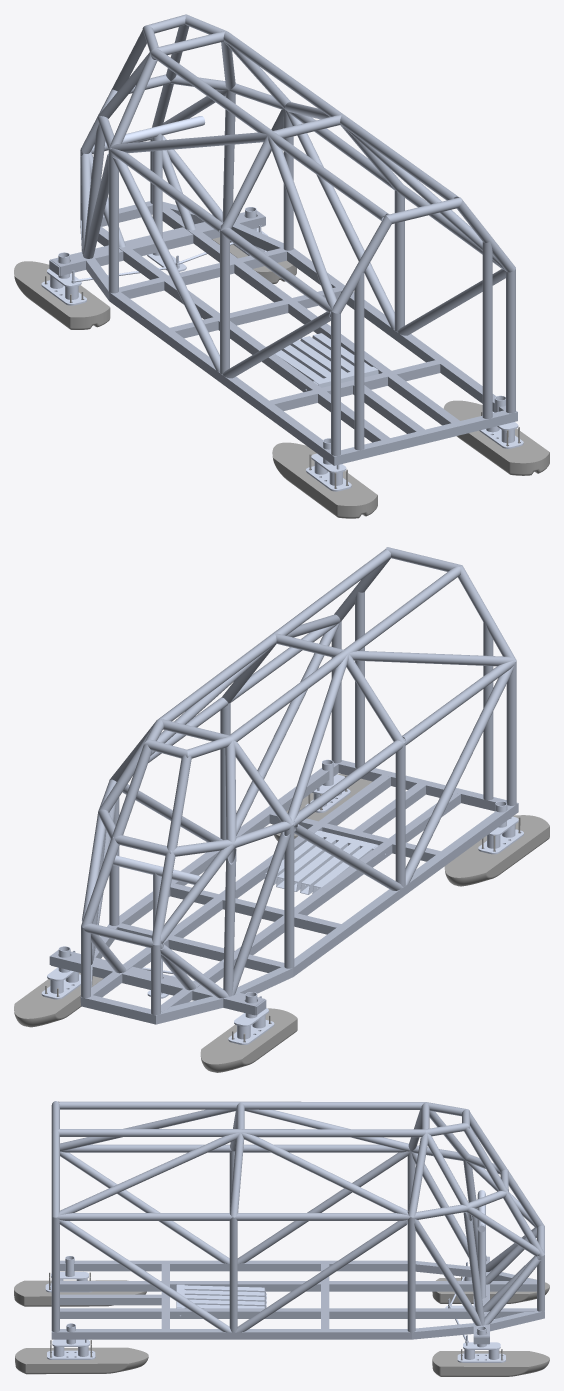
File: toboggan.glb
3 views of the same model, one above another, from view 1: azimuth 30°, elevation 25°; view 2: azimuth 150°, elevation 25°; view 3: azimuth 270°, elevation 25° (orthographic). The views are drawn at different scales.
Visible parts, largest first — view 1: Chassis Design with all stress tests - AM-1, Back Conc Ski-1, Front Conc Ski-2, Back Conc Ski-2, Breaking Components-1, steering plate-1, Conc Ski Mount-2, Conc Ski Mount-4, Conc Ski Mount-5; view 2: Chassis Design with all stress tests - AM-1, Back Conc Ski-1, Breaking Components-1, Front Conc Ski-2, Front Conc Ski-1, steering plate-1, Conc Ski Mount-2, Conc Ski Mount-4, Conc Ski Mount-1, Conc Ski Mount-5, Back Conc Ski-2; view 3: Chassis Design with all stress tests - AM-1, Back Conc Ski-2, Front Conc Ski-1, Breaking Components-1, Back Conc Ski-1, Conc Ski Mount-5, Conc Ski Mount-1, Front Conc Ski-2, steering plate-1, Conc Ski Mount-4.
Part boxes in pixels (x1,y1,x2,y2): Chassis Design with all stress tests - AM-1: [49, 14, 517, 465]; Back Conc Ski-1: [272, 442, 377, 518]; Front Conc Ski-2: [14, 261, 110, 329]; Back Conc Ski-2: [443, 400, 549, 475]; Breaking Components-1: [266, 333, 378, 387]; steering plate-1: [122, 116, 205, 271]; Conc Ski Mount-2: [41, 252, 86, 305]; Conc Ski Mount-4: [306, 438, 351, 491]; Conc Ski Mount-5: [479, 395, 523, 448]; Chassis Design with all stress tests - AM-1: [49, 547, 518, 1024]; Back Conc Ski-1: [444, 815, 549, 886]; Breaking Components-1: [264, 830, 378, 894]; Front Conc Ski-2: [200, 1008, 297, 1072]; Front Conc Ski-1: [14, 972, 103, 1027]; steering plate-1: [113, 855, 200, 998]; Conc Ski Mount-2: [228, 992, 274, 1044]; Conc Ski Mount-4: [478, 801, 523, 854]; Conc Ski Mount-1: [41, 946, 80, 999]; Conc Ski Mount-5: [305, 759, 350, 812]; Back Conc Ski-2: [272, 774, 372, 840]; Chassis Design with all stress tests - AM-1: [51, 1101, 544, 1344]; Back Conc Ski-2: [15, 1340, 148, 1374]; Front Conc Ski-1: [432, 1349, 549, 1376]; Breaking Components-1: [176, 1284, 266, 1308]; Back Conc Ski-1: [14, 1272, 146, 1306]; Conc Ski Mount-5: [47, 1323, 95, 1359]; Conc Ski Mount-1: [457, 1326, 505, 1362]; Front Conc Ski-2: [432, 1276, 549, 1303]; steering plate-1: [445, 1190, 485, 1308]; Conc Ski Mount-4: [45, 1256, 91, 1292].
Bounding box in the file's own units: 0.9919 × 1.14 × 2.52.
